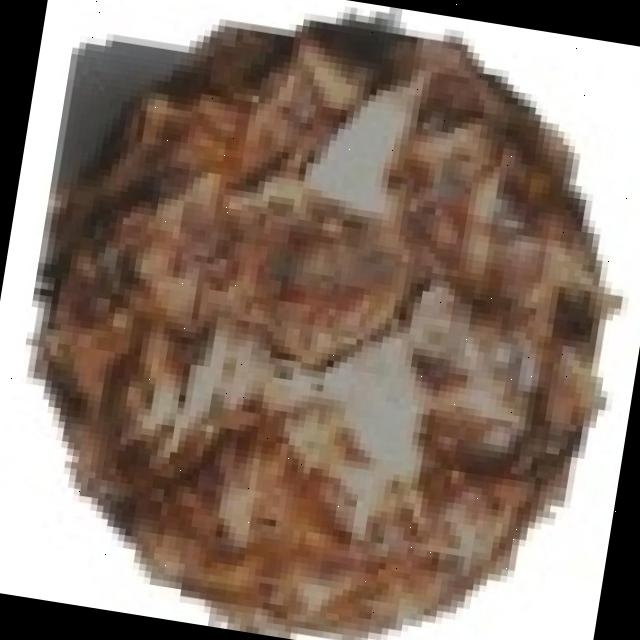pineapple: (46, 36, 626, 640)
